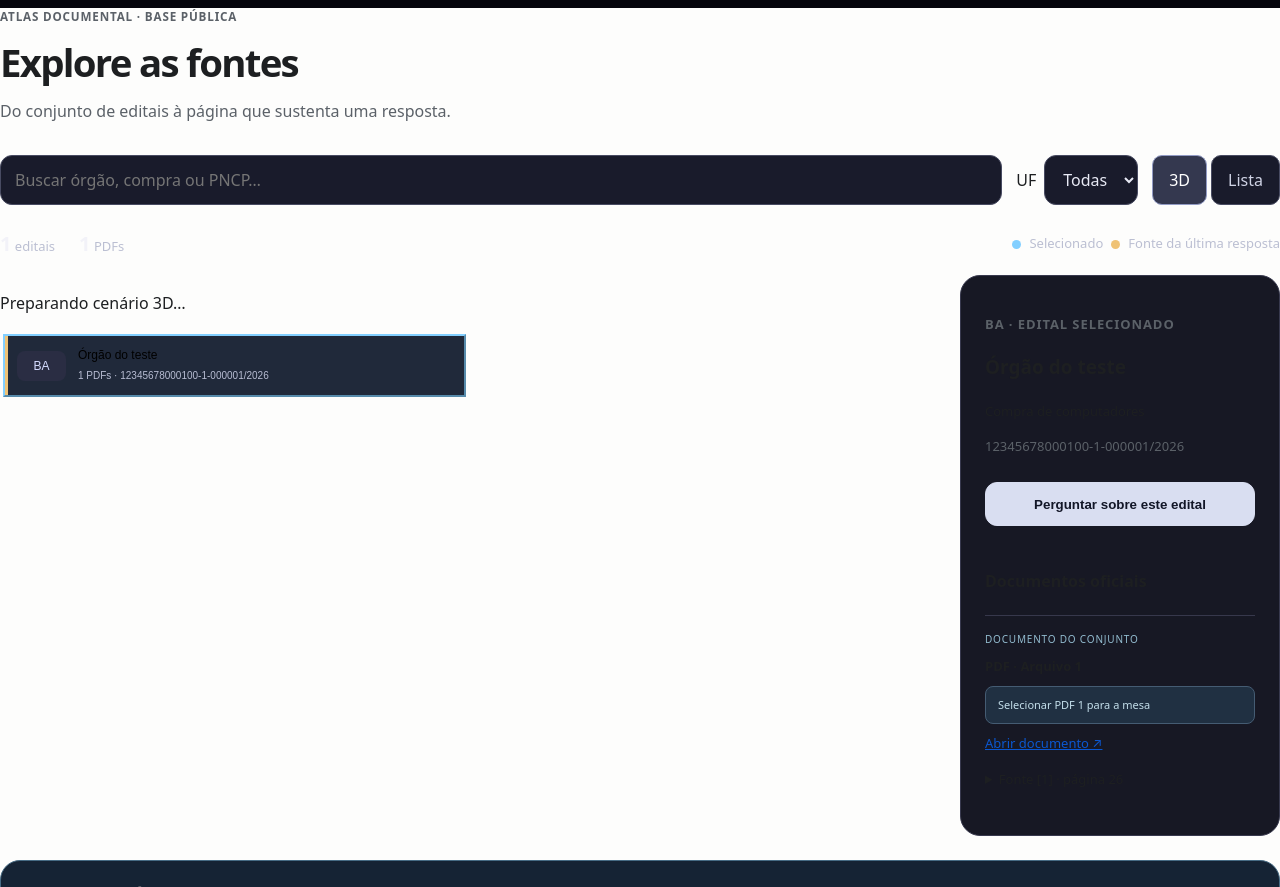
Test: mostra catálogo, fontes literais, filtros e seleção sem enviar consulta
The width and height of the screenshot is (1280, 887).
Click the button "Lista" at (1246, 180), box 1211,155 -> 1279,205
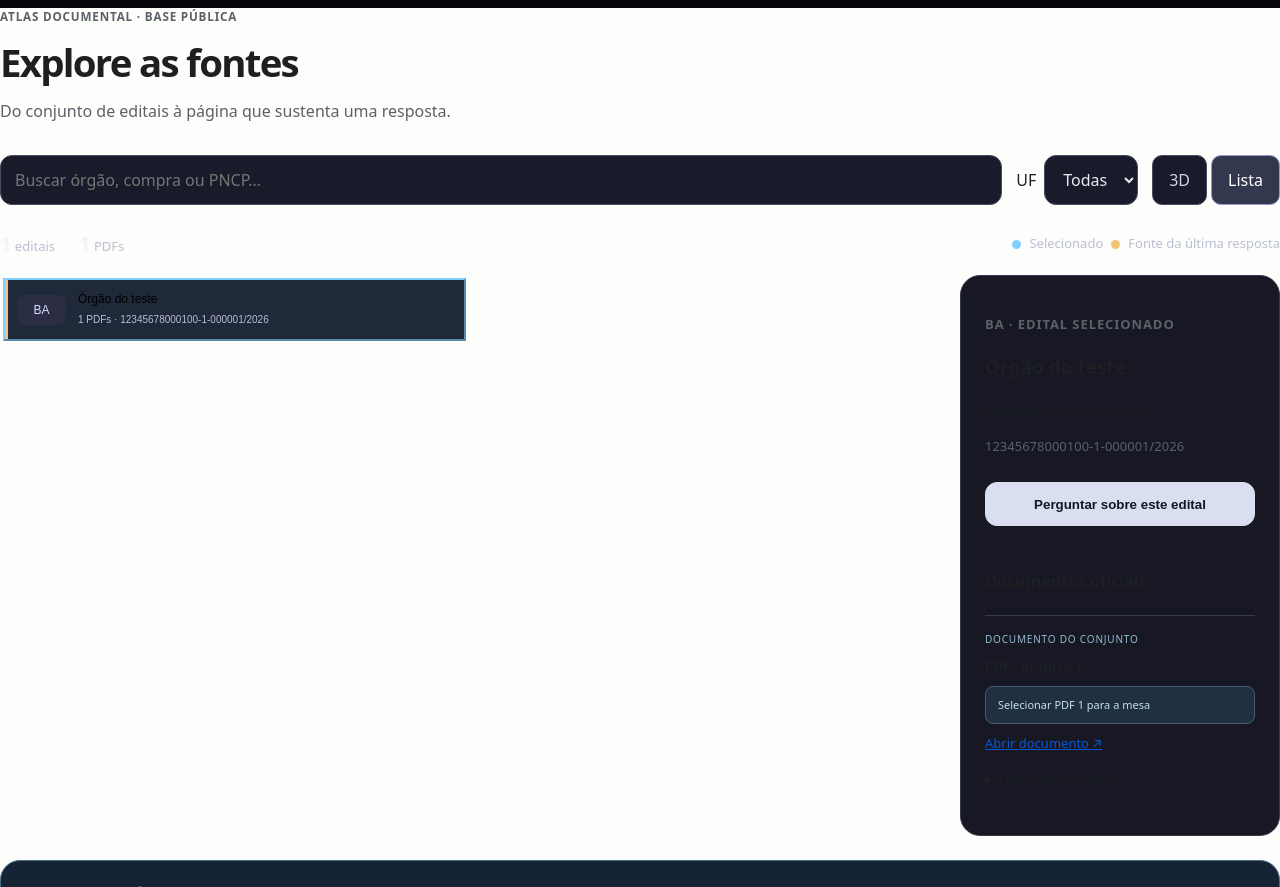
Now the button "Lista" is pressed, box 1211,155 -> 1279,205
Type "inexistente" into the search field named "Buscar no explorador" at (501, 180), box 0,155 -> 1002,205
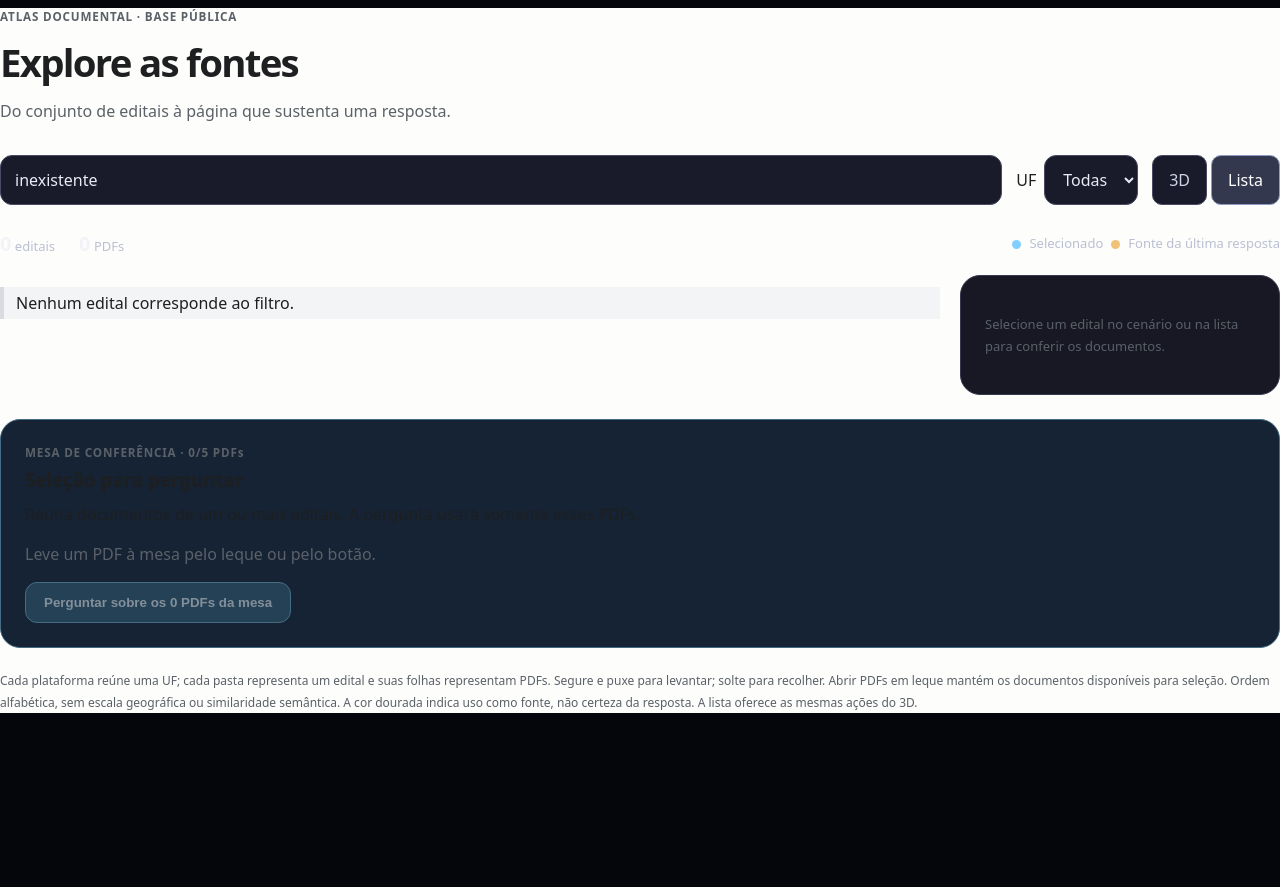
Now the text "Nenhum edital corresponde ao filtro." is shown, box 0,287 -> 940,319
